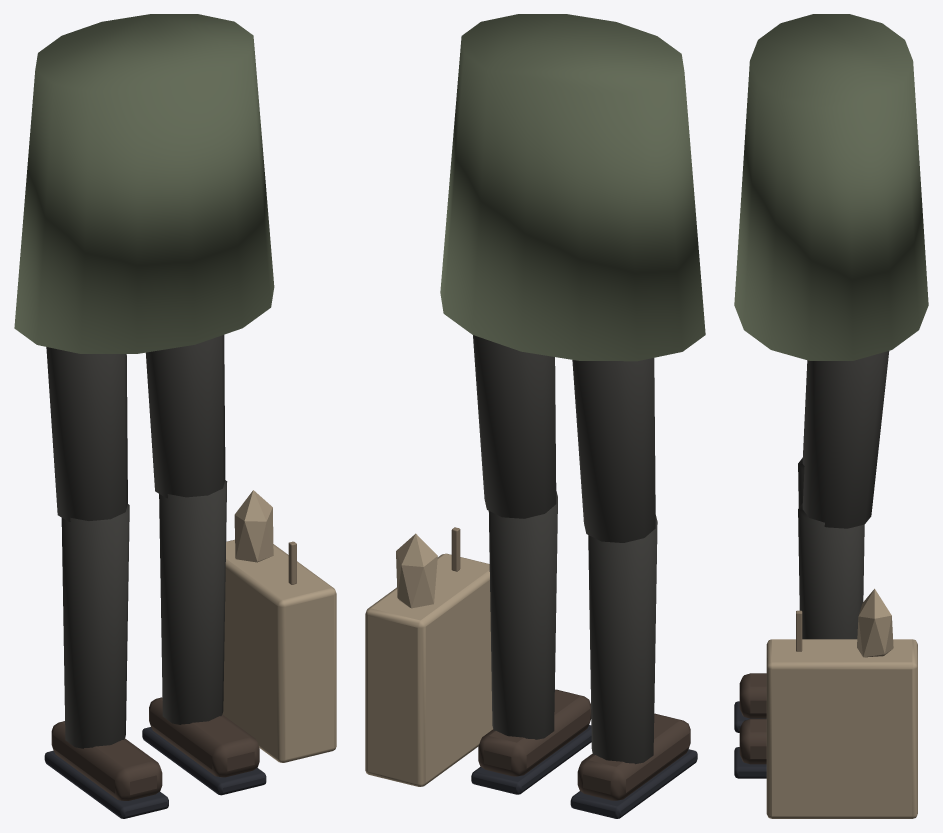
File: human_b.fbx
The picture shows the model from 3 angles, left to right: view 1: azimuth 30°, elevation 25°; view 2: azimuth 150°, elevation 25°; view 3: azimuth 270°, elevation 25°; orthographic projection. The views are drawn at different scales.
Parts seen in each view (by area): view 1: human_b; view 2: human_b; view 3: human_b.
Part boxes in pixels (x1=…): human_b: x1=14, y1=14, x2=336, y2=818; human_b: x1=365, y1=14, x2=705, y2=818; human_b: x1=734, y1=14, x2=928, y2=818.
Bounding box in the file's own units: 0.5737 × 0.36 × 1.4.
